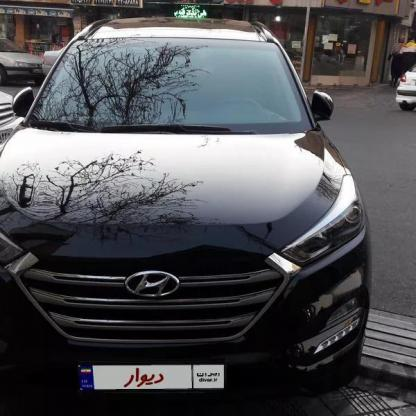Car: (0, 21, 372, 416), (0, 87, 31, 162), (36, 36, 96, 70), (0, 33, 38, 83), (385, 66, 416, 124)
